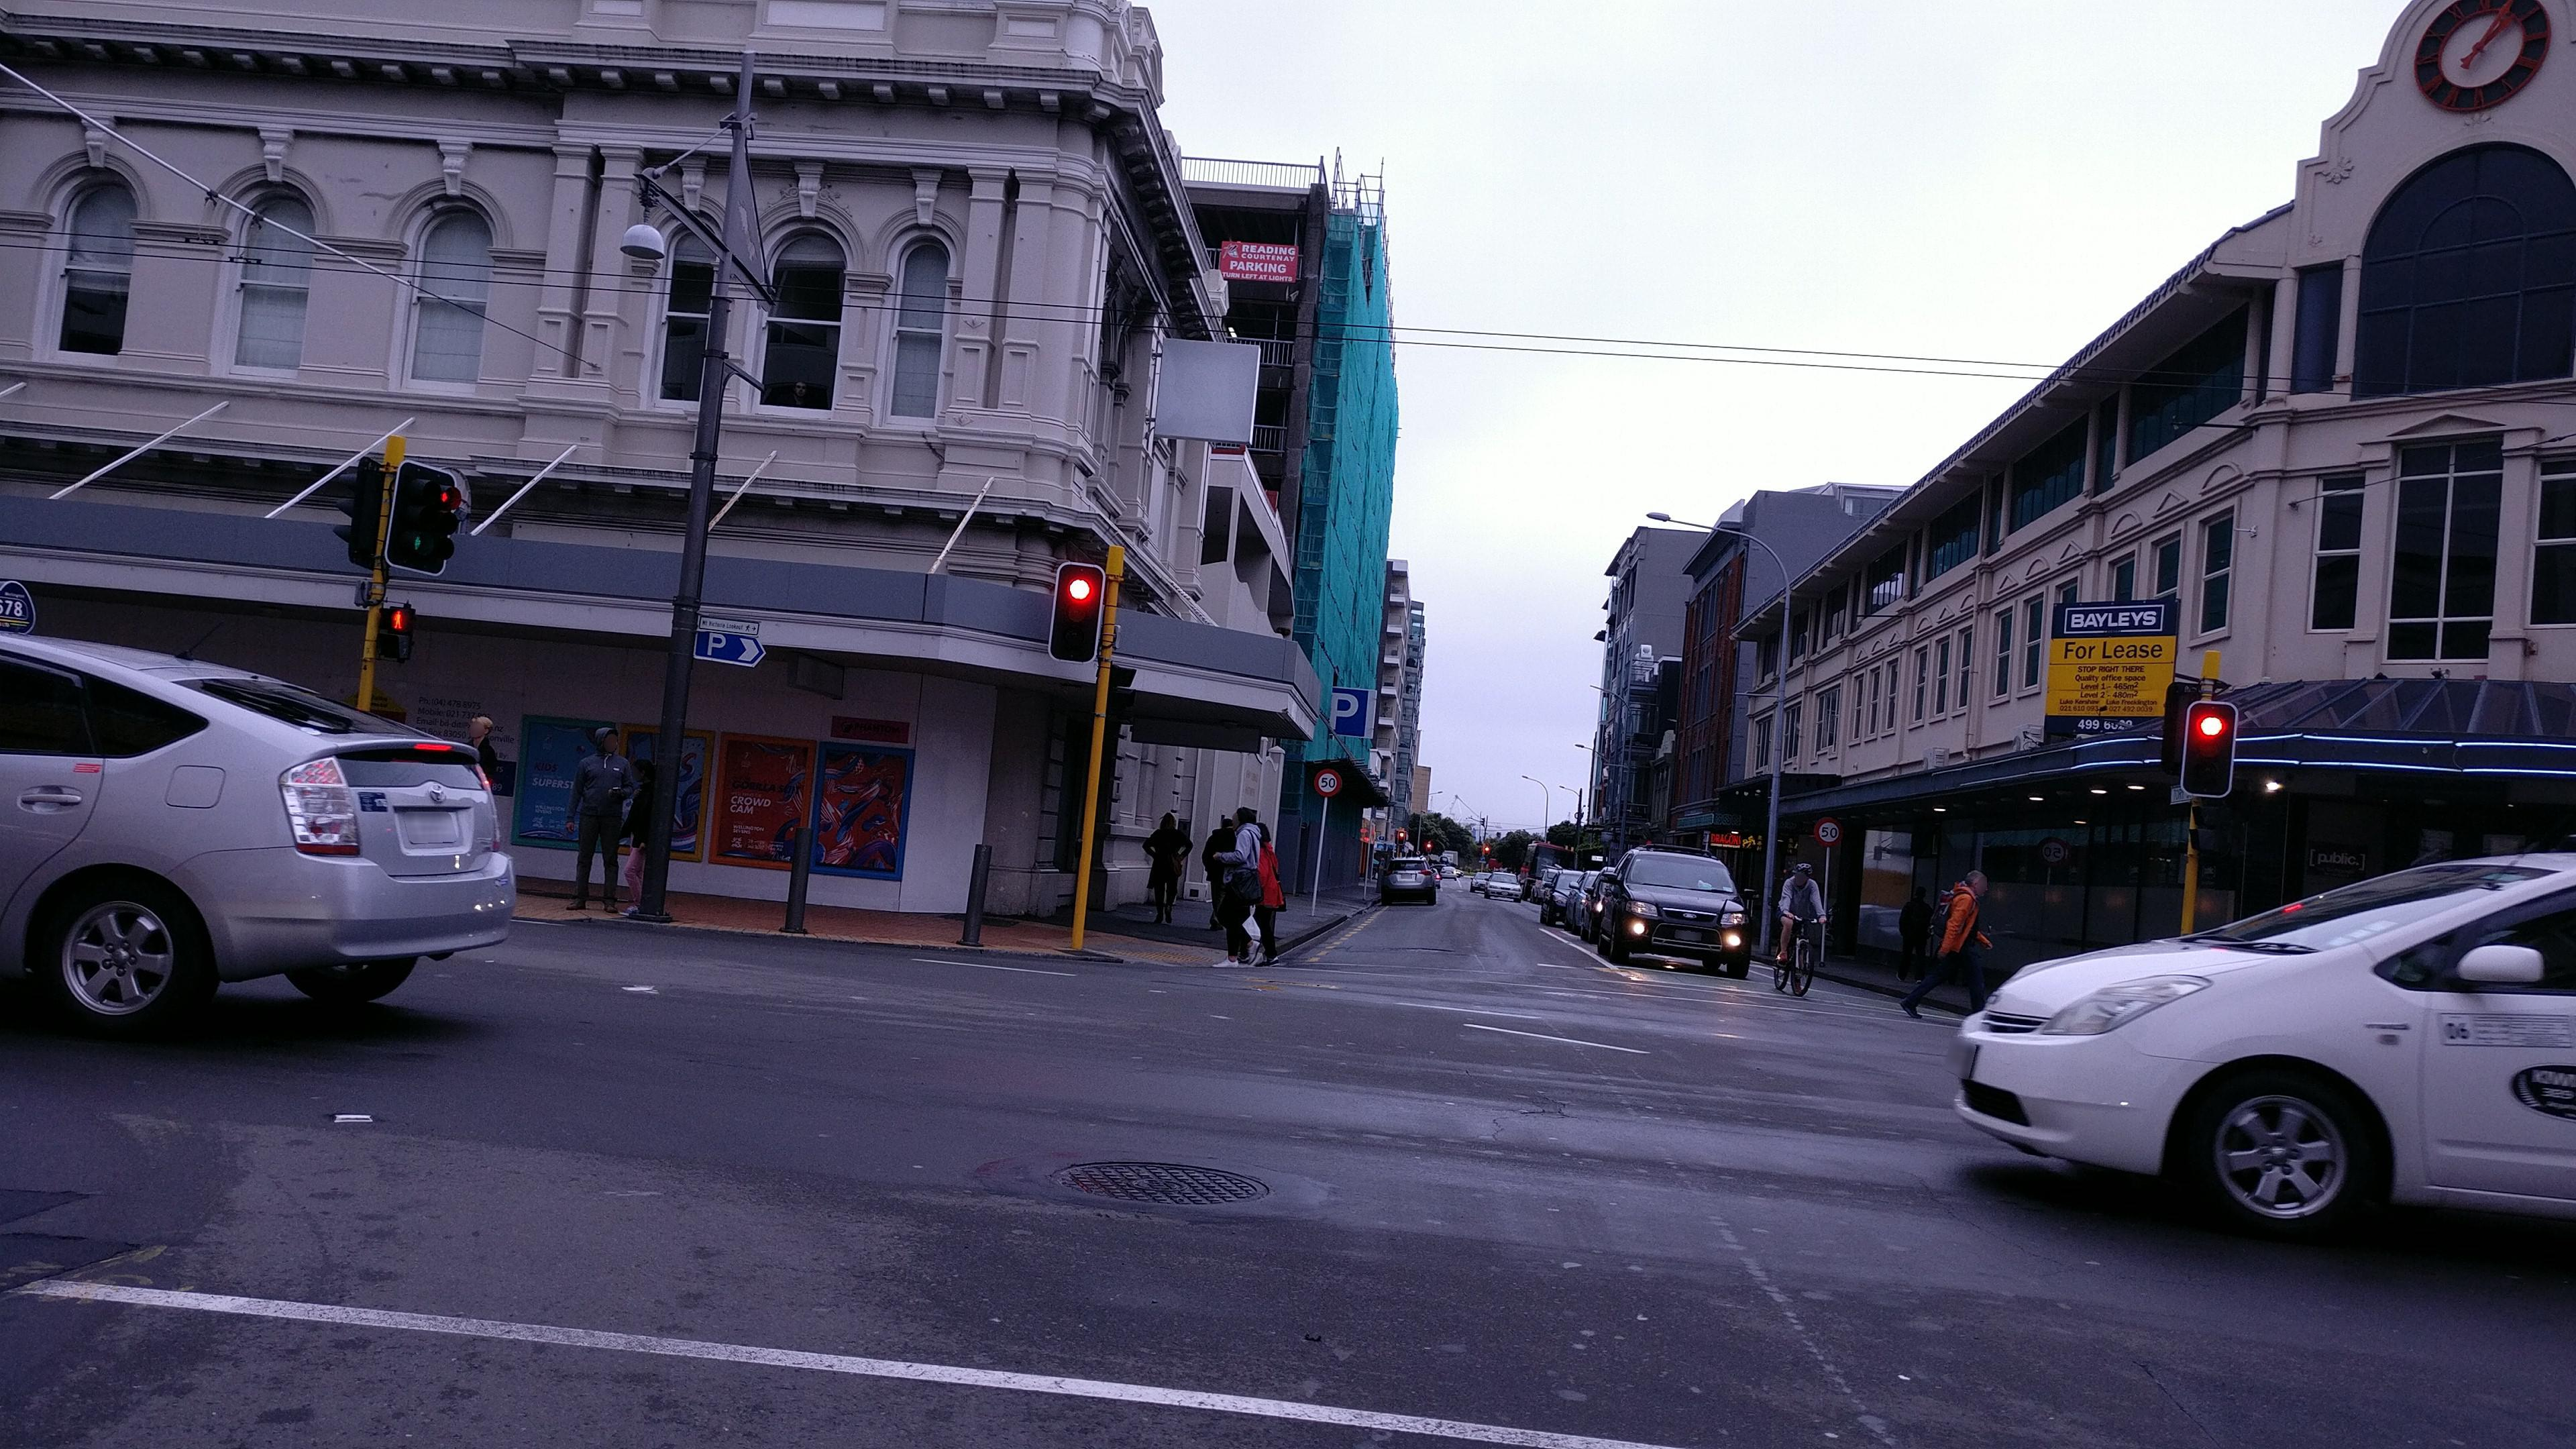property sign: (2022, 561, 2199, 782)
